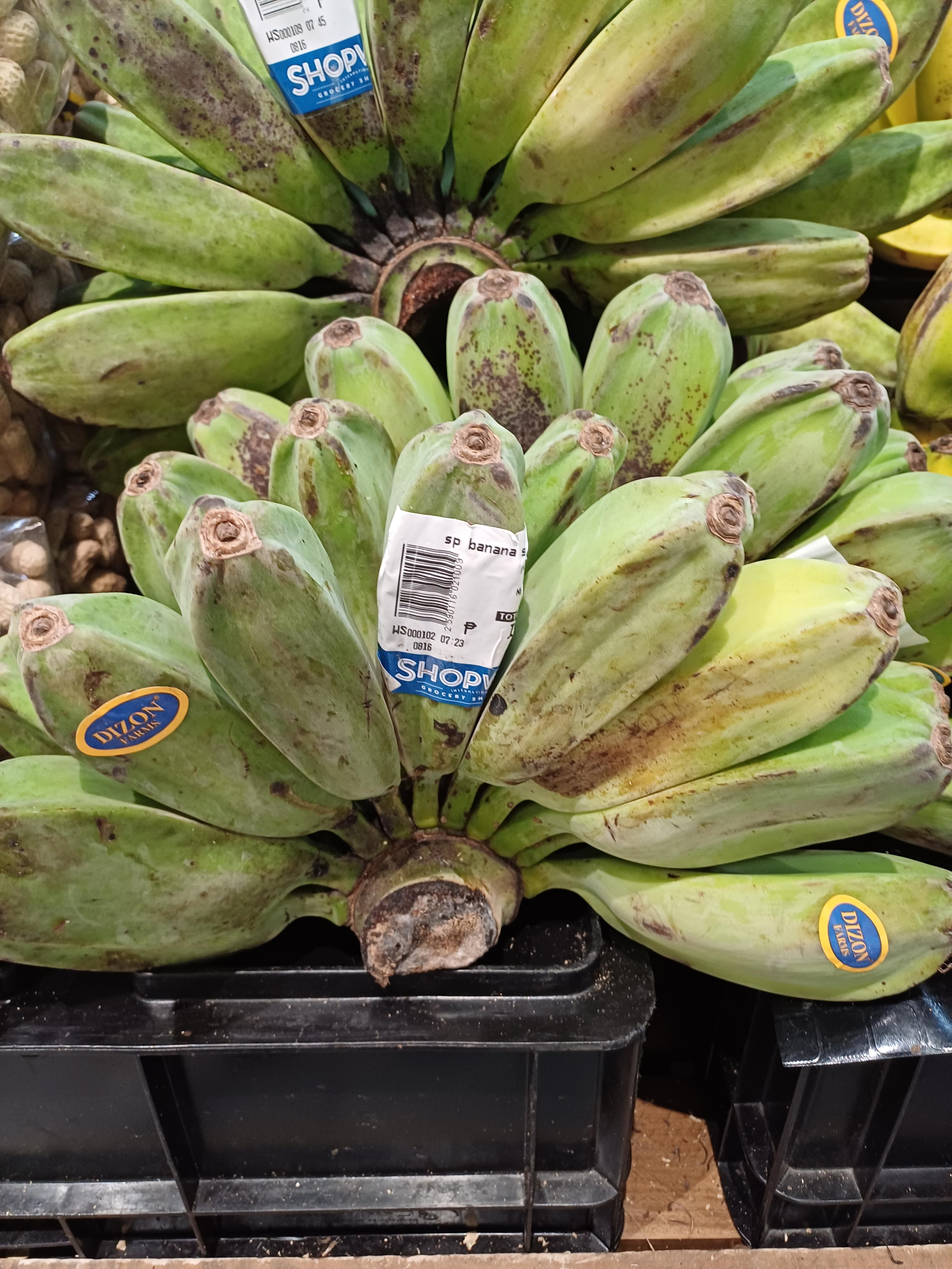underripe: (0, 316, 952, 1000), (0, 0, 952, 428), (445, 269, 952, 676)
